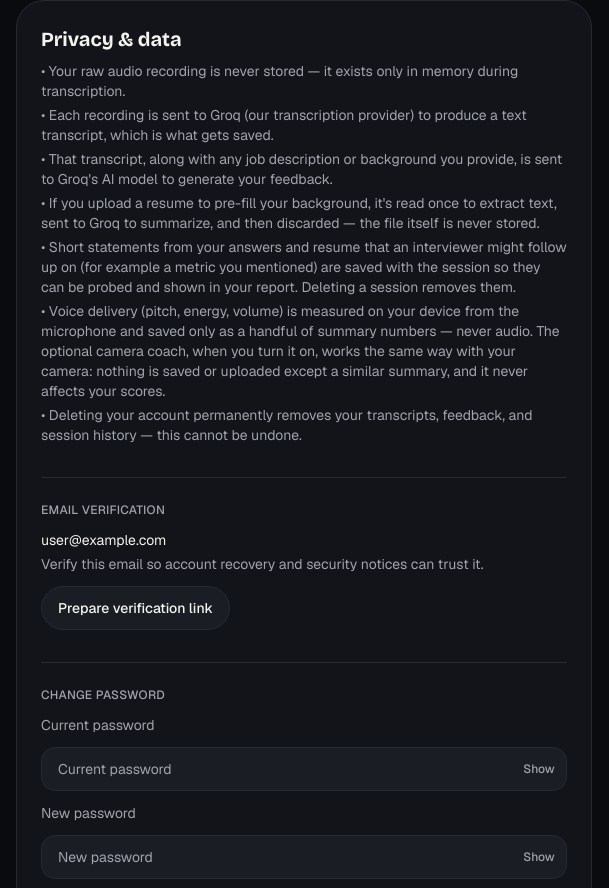
AccountPrivacyPanel › submits a password change and shows a success message
The image size is (609, 888).
Type "old-password" into the password field with placeholder "Current password".
click(304, 769); type("old-password")  # box [41, 747, 567, 791]
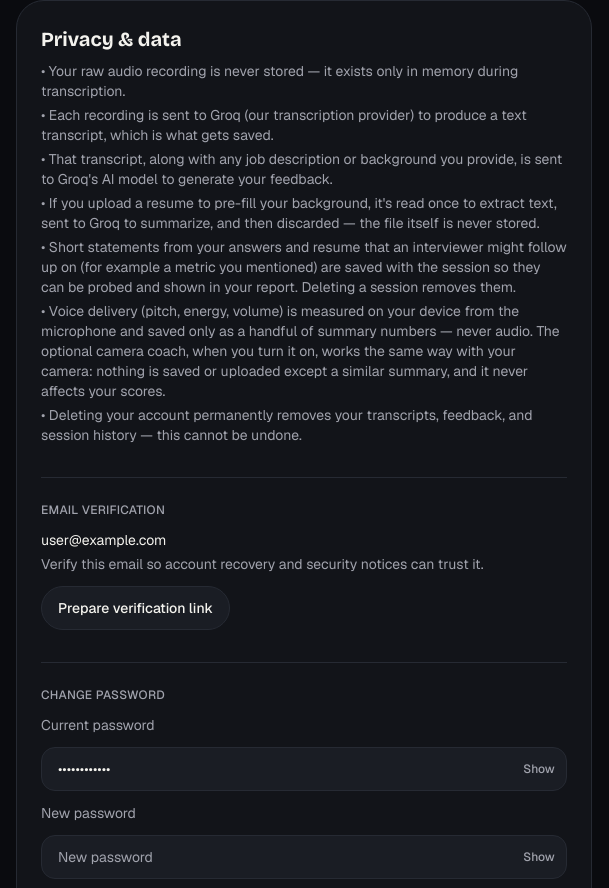
Type "a-new-password-123" into the password field with placeholder "New password".
click(304, 857); type("a-new-password-123")  # box [41, 835, 567, 879]
(page scrolled)
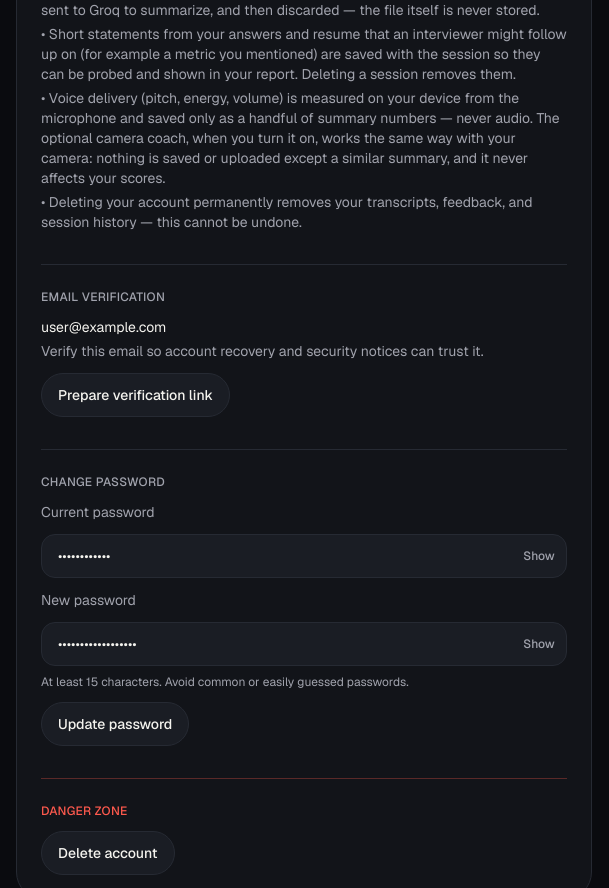
Click the button "Update password".
click(115, 724)  # box [41, 702, 189, 746]
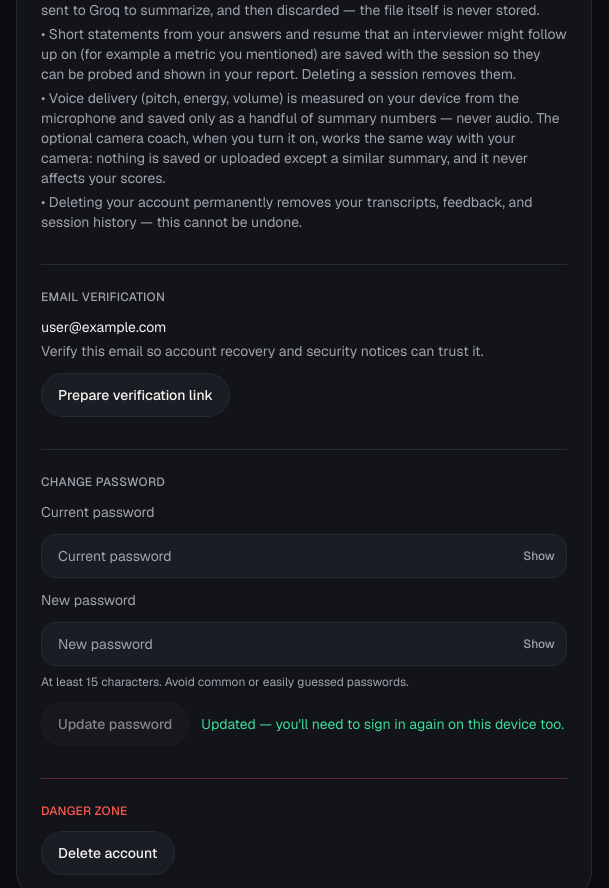
Result: the text "Updated — you'll need to sign in again on this device too." is shown at [201, 714, 564, 734]
